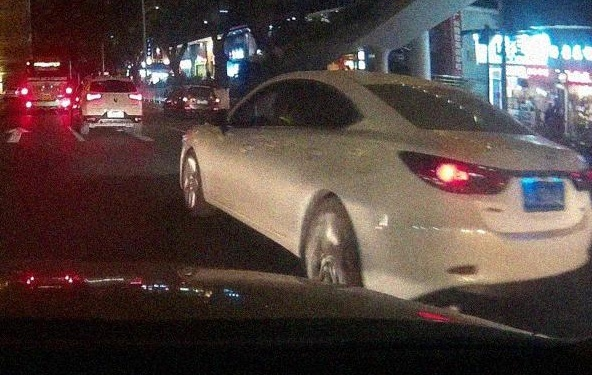L_light: (397, 148, 511, 195), (86, 93, 102, 101)
R_light: (568, 170, 592, 196), (128, 94, 142, 101)
T_light: (424, 86, 453, 91), (107, 80, 120, 83)
night-left: (356, 76, 592, 311)
night-no: (86, 76, 144, 134)
